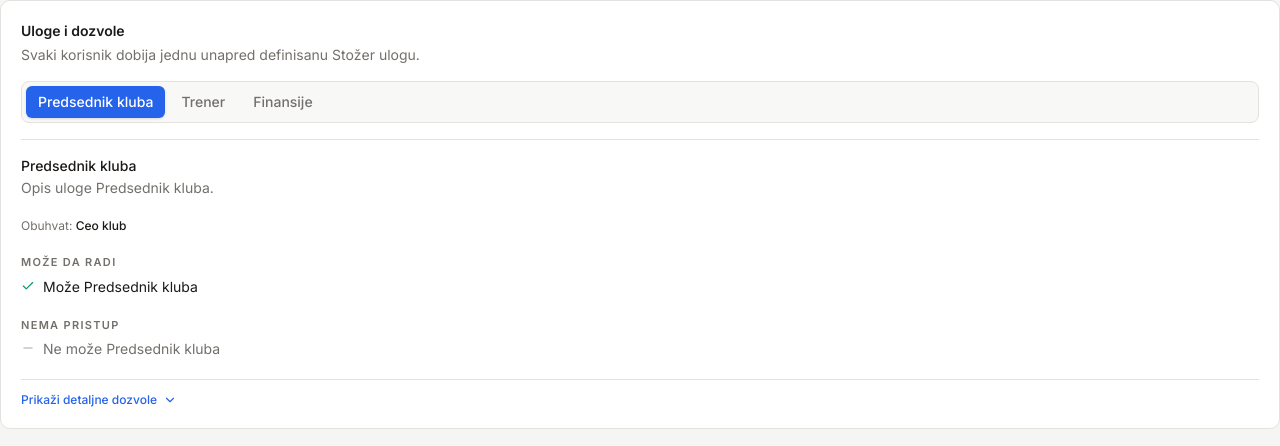
Test case: RoleRegistrySection › shows only the selected role in the detail panel
Step 1. Click the tab "Trener" → (203, 102), box [170,86,237,118]
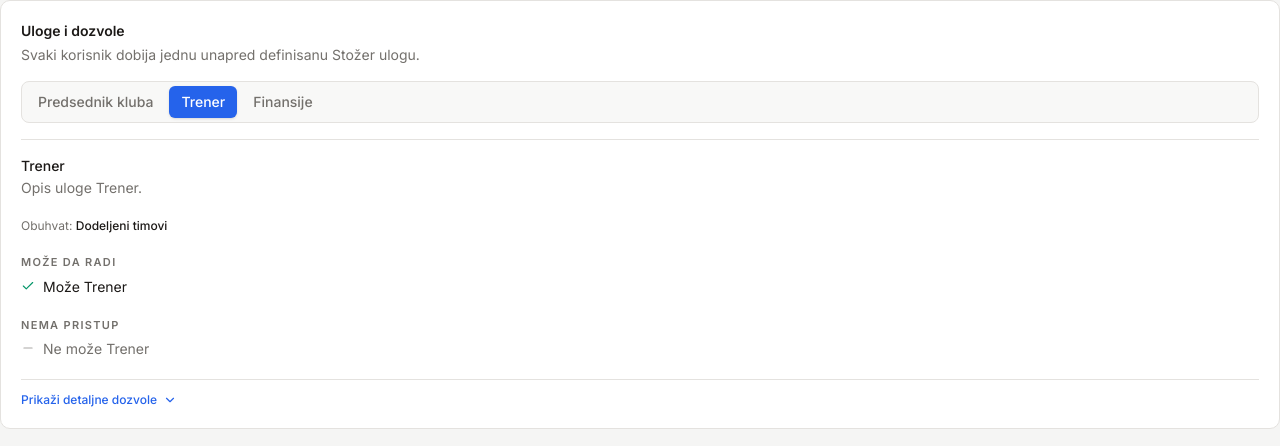
Expected: the text "Opis uloge Trener." is shown, [21,179,142,196]
Expected: the text "Dodeljeni timovi" is shown, [76,218,167,233]
Expected: the text "Može Trener" is shown, [43,276,127,296]
